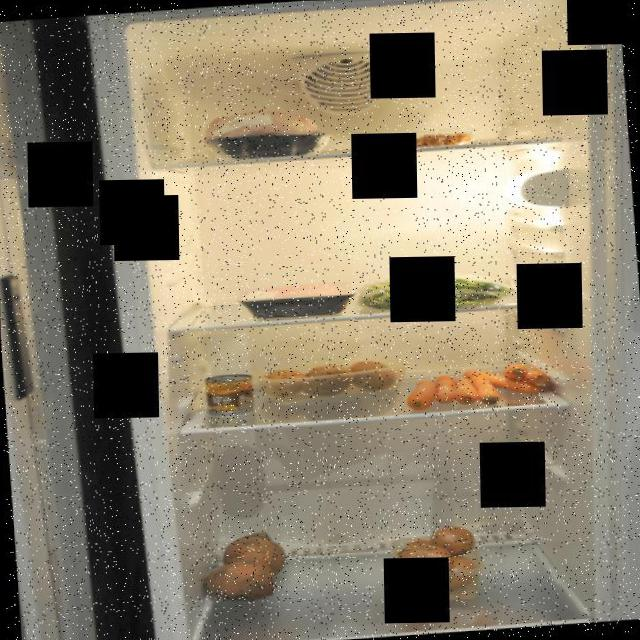Carne pollo: (198, 103, 336, 165)
Carne vacuno: (234, 280, 360, 320)
Cebolla: (388, 522, 488, 604)
Gambas/Langostinos: (391, 131, 475, 148)
Patata: (259, 356, 401, 404)
Zanahoria: (398, 357, 559, 415)
corn: (203, 372, 256, 417)
green_beans: (356, 266, 518, 316)
sweet_potato: (204, 524, 292, 610)
